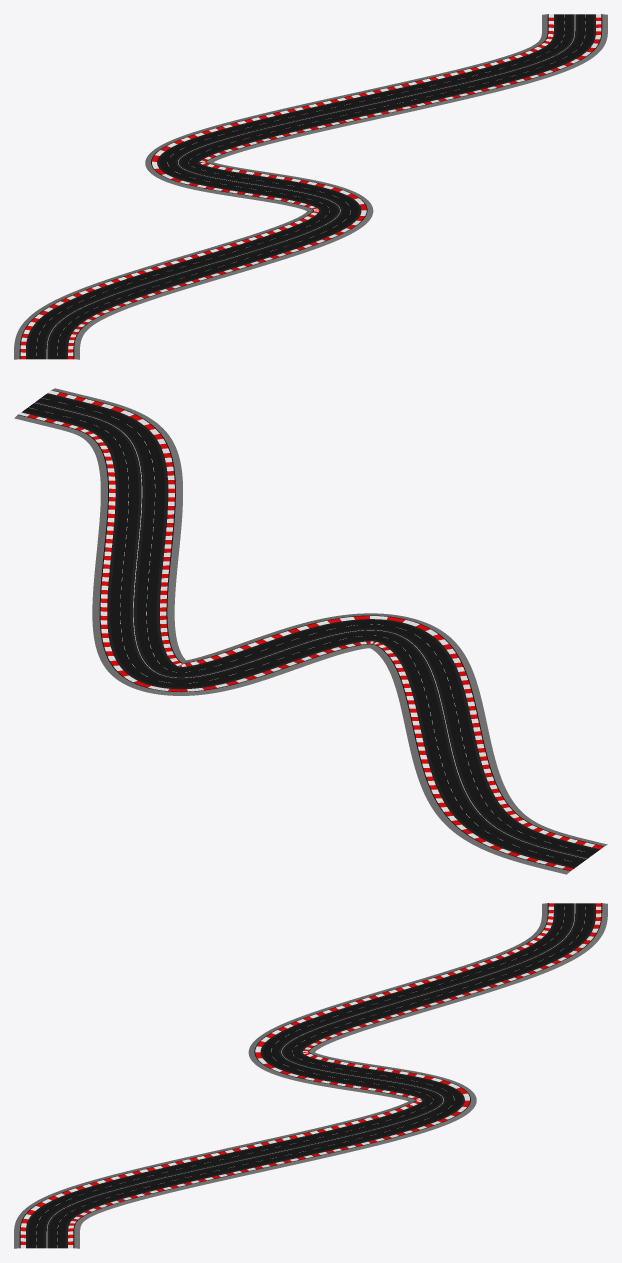
The model's file is S0.2c2h0-ass1.glb.
3 views of the same model, one above another, from view 1: azimuth 90°, elevation 25°; view 2: azimuth 150°, elevation 25°; view 3: azimuth 270°, elevation 25° (orthographic). The views are drawn at different scales.
Parts seen in each view (by area): view 1: Grid; view 2: Grid; view 3: Grid.
Part boxes in pixels (x1,y1,x2,y2): Grid: (14,14,607,359); Grid: (14,388,607,874); Grid: (14,903,607,1248).
Size of the model in its own units: 309 by 0.31 by 225.
